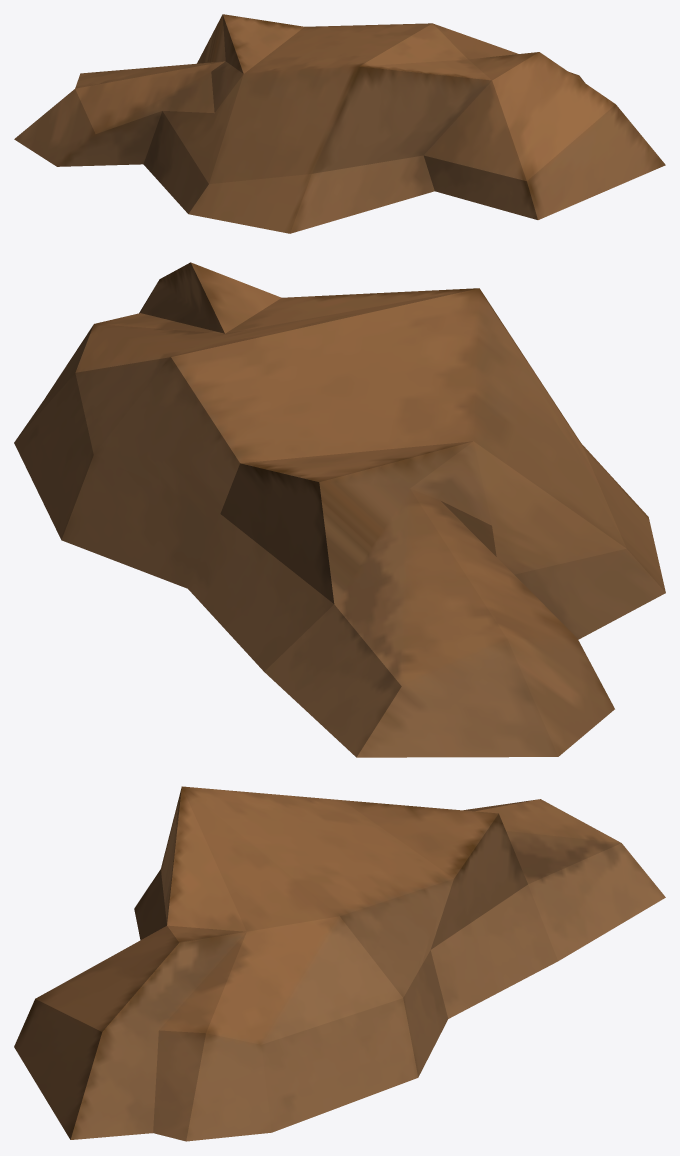
Rendered from Coincraft_Rock_02.fbx.
3 views of the same model, one above another, from view 1: azimuth 30°, elevation 25°; view 2: azimuth 150°, elevation 25°; view 3: azimuth 270°, elevation 25° (orthographic). The views are drawn at different scales.
Visible parts, largest first — view 1: Rock_02; view 2: Rock_02; view 3: Rock_02.
Boxes of the visible parts, box(x1,y1,x2,y2) form: Rock_02: box(14, 14, 665, 233); Rock_02: box(14, 262, 665, 757); Rock_02: box(14, 786, 665, 1141).
Size of the model in its own units: 60.01 by 16.86 by 54.18.
Materials: 1 (1 with a texture image).
